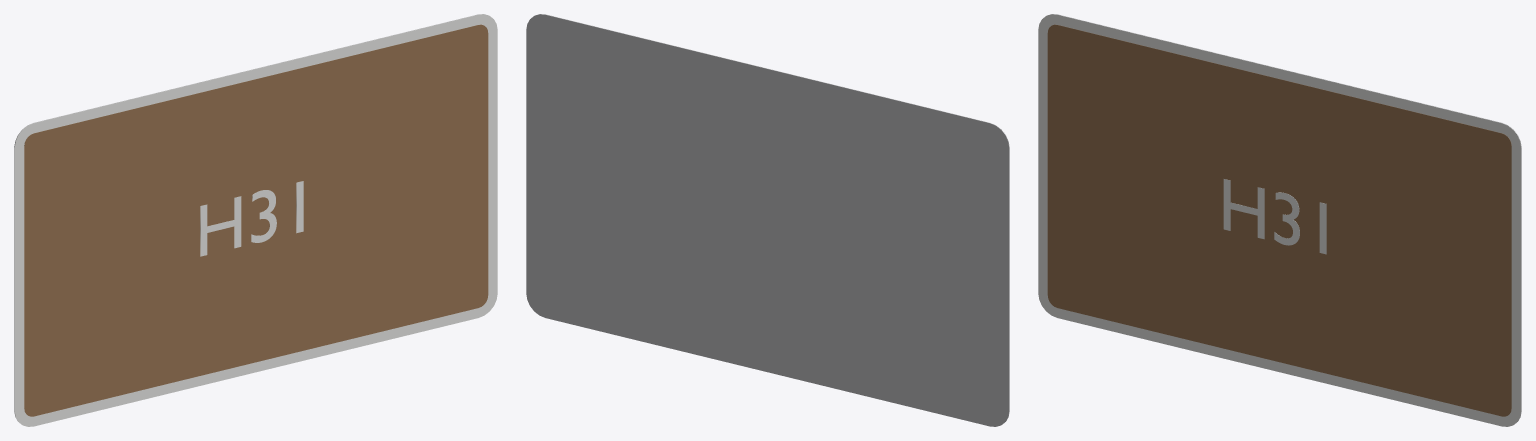
3 views of the same model, side by side, from view 1: azimuth 30°, elevation 25°; view 2: azimuth 150°, elevation 25°; view 3: azimuth 330°, elevation 25° (orthographic).
Parts seen in each view (by area): view 1: H31_fond01, H31_cadre00, H31_txt02, H31_dos; view 2: H31_dos; view 3: H31_fond01, H31_cadre00, H31_txt02, H31_dos.
Boxes of the visible parts, box(x1,y1,x2,y2) form: H31_fond01: box(24, 24, 488, 416); H31_cadre00: box(14, 14, 497, 426); H31_txt02: box(200, 181, 303, 256); H31_dos: box(14, 14, 487, 420); H31_dos: box(526, 14, 1009, 426); H31_fond01: box(1047, 24, 1511, 416); H31_cadre00: box(1038, 14, 1521, 426); H31_txt02: box(1223, 179, 1326, 254); H31_dos: box(1048, 14, 1521, 420).
Bounding box in the file's own units: 1 × 0.6 × 0.0025.
